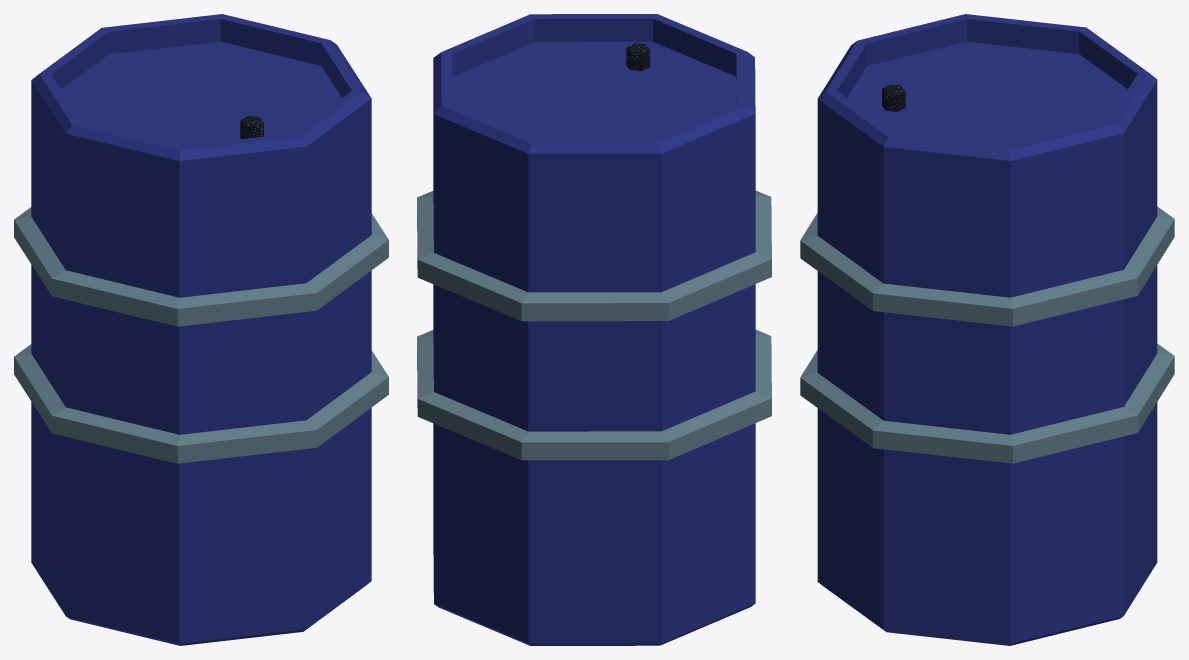
The model's file is Prop_Barrel_Blue_A.fbx.
The picture shows the model from 3 angles, left to right: view 1: azimuth 30°, elevation 25°; view 2: azimuth 150°, elevation 25°; view 3: azimuth 270°, elevation 25°; orthographic projection.
Parts seen in each view (by area): view 1: Prop_Barrel_Blue_A; view 2: Prop_Barrel_Blue_A; view 3: Prop_Barrel_Blue_A.
Part boxes in pixels (left/top/right/bottom): Prop_Barrel_Blue_A: left=14, top=14, right=388, bottom=645; Prop_Barrel_Blue_A: left=417, top=14, right=771, bottom=645; Prop_Barrel_Blue_A: left=800, top=14, right=1174, bottom=645.
Size of the model in its own units: 77.2 by 77.2 by 112.
